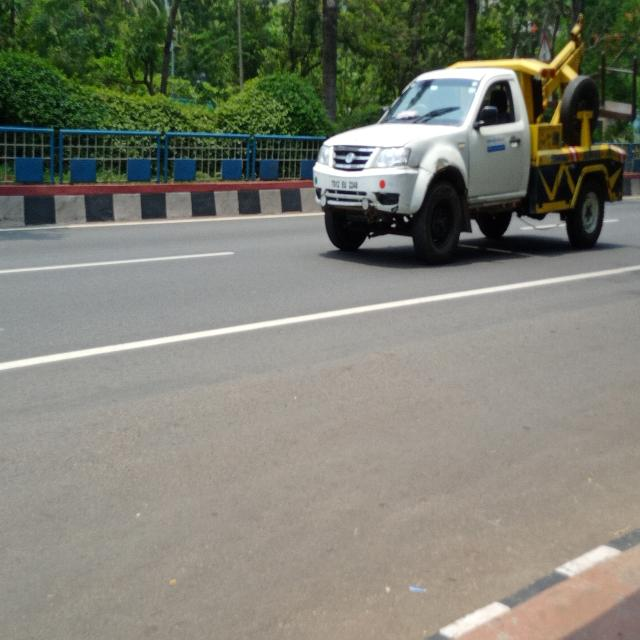car: (306, 72, 535, 264)
